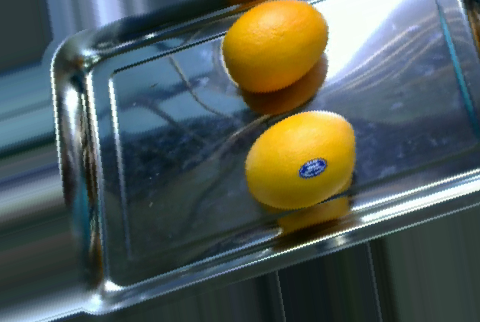Orange: (244, 110, 355, 209), (220, 1, 329, 93)
